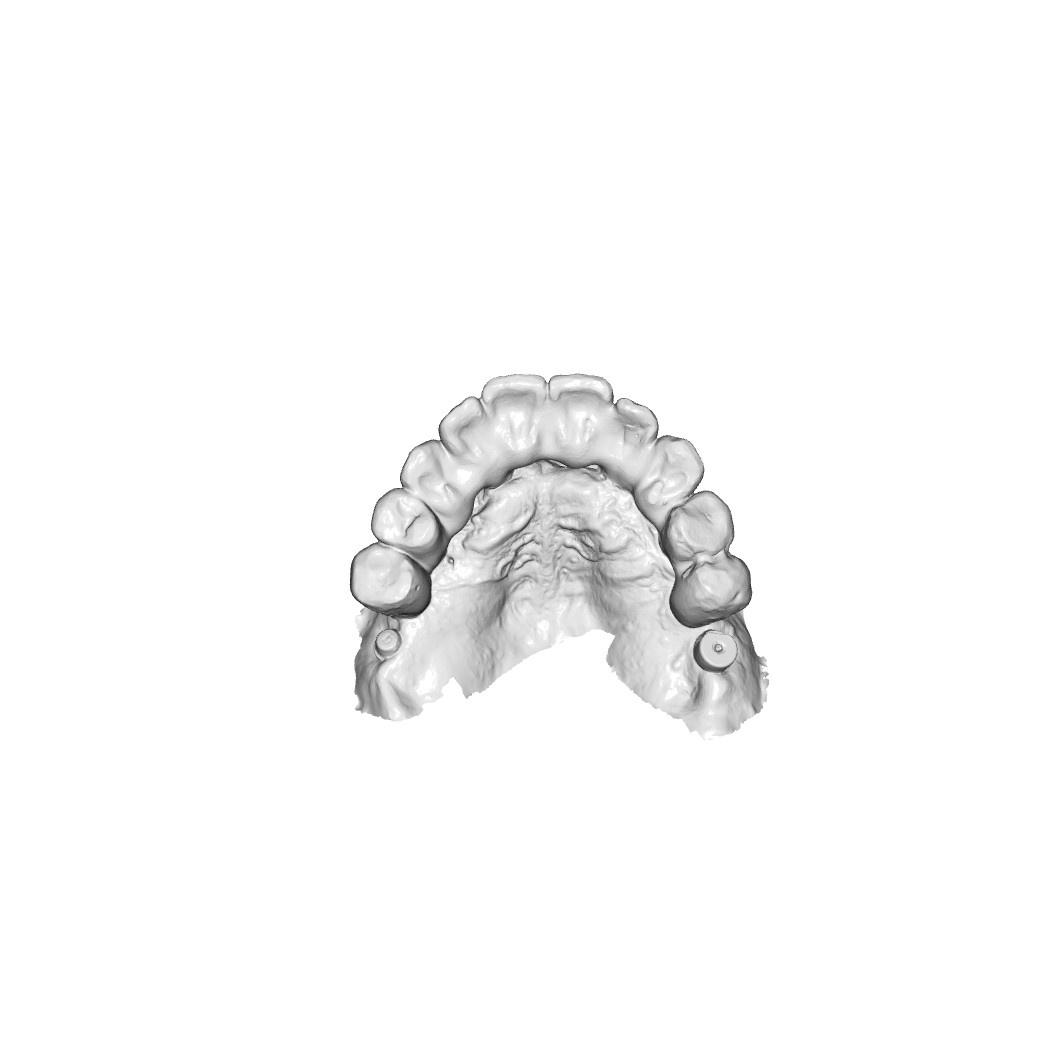canine: (637, 432, 705, 525), (404, 438, 470, 519)
implant: (697, 630, 737, 678)
incisor: (551, 376, 625, 475), (486, 372, 550, 454), (612, 402, 656, 482), (442, 398, 496, 463)
premolar: (680, 554, 757, 627), (670, 497, 741, 564), (351, 546, 421, 610), (368, 492, 438, 555)
